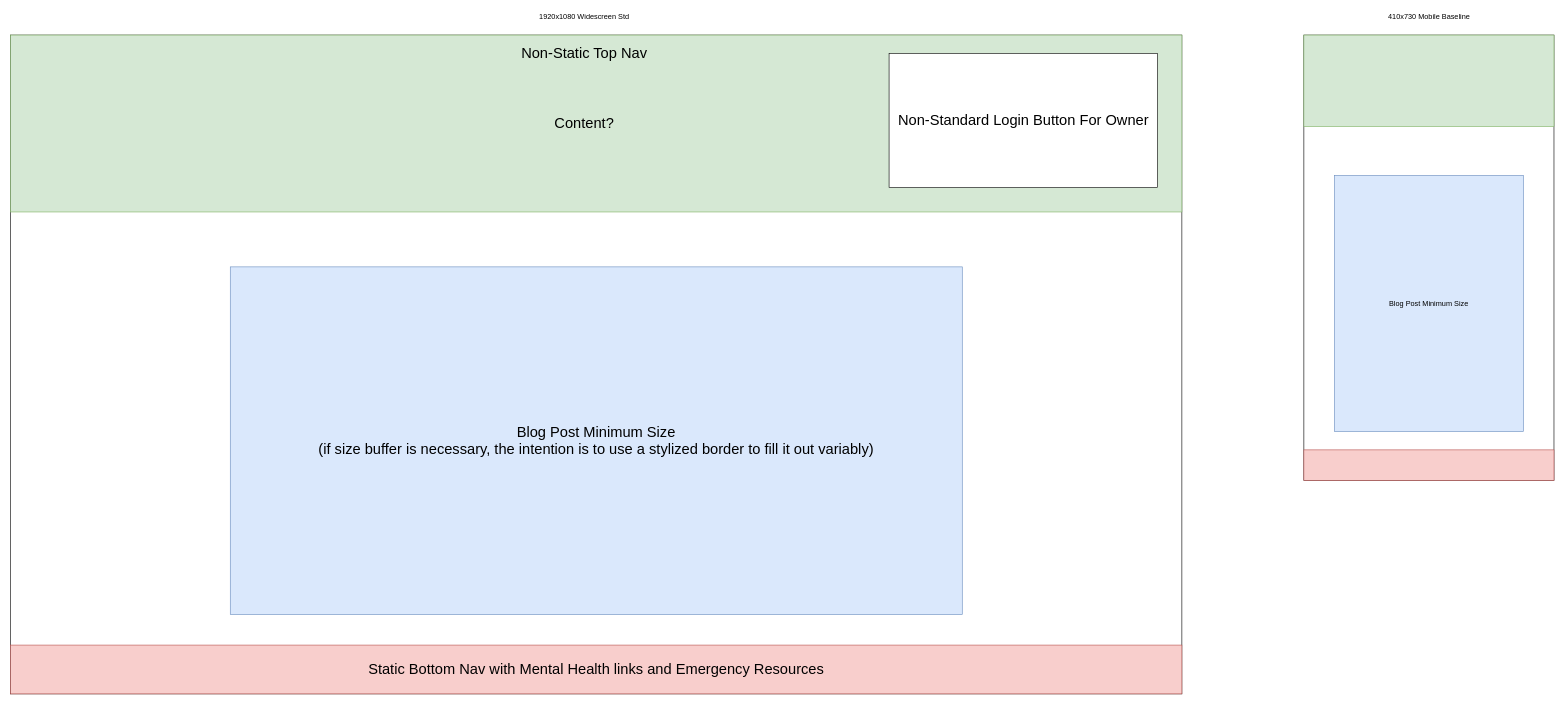
Image size: 1565x705. Some labels were removed from this diagram. The centre of each missing label's shape, as x and y in pixels:
"Expandable Bottom Nav With Same info as desktop version" belongs at (1428,464).
"Top Nav" belongs at (1428,80).
